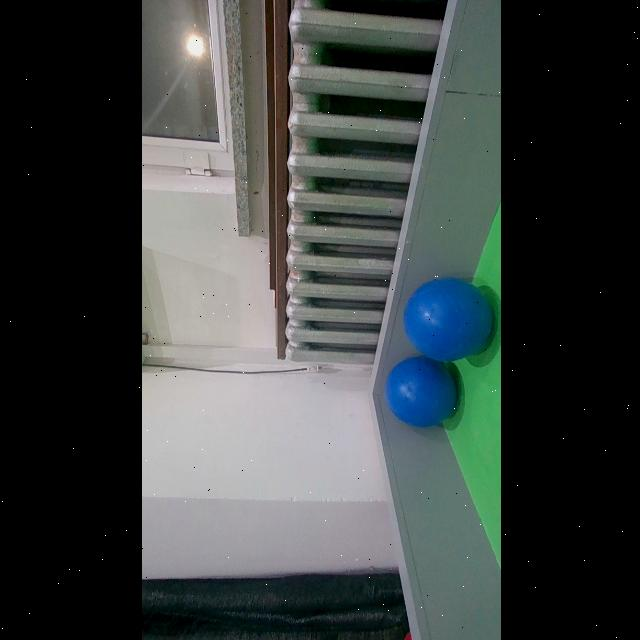B: (402, 276, 492, 362), (382, 356, 456, 428)
